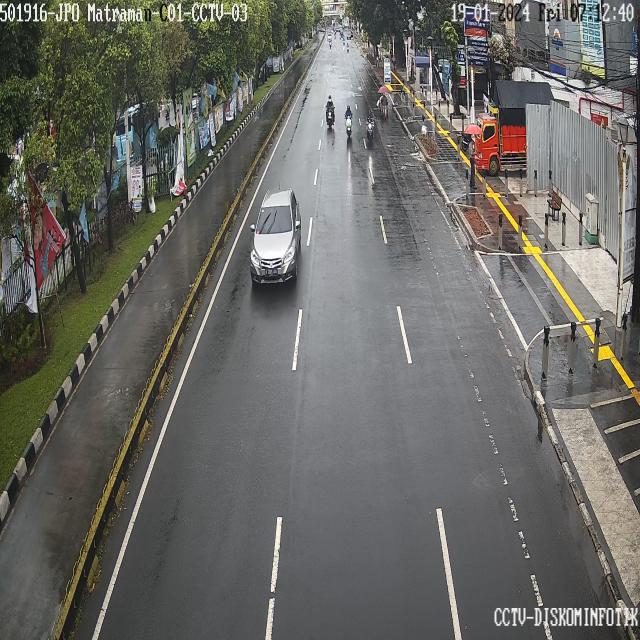Payung: (375, 85, 393, 95)
